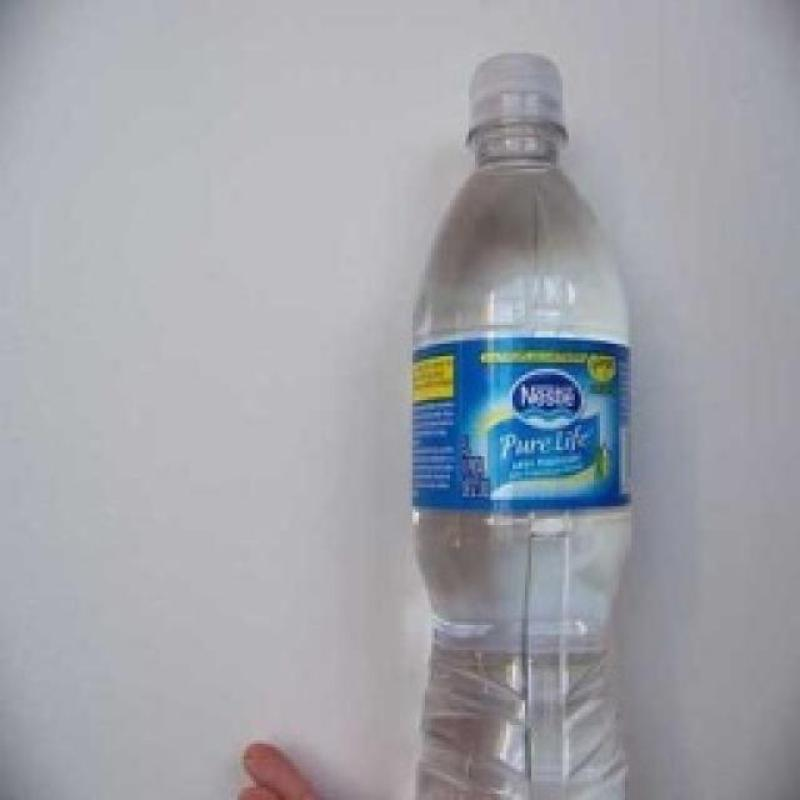botella: (404, 50, 644, 800)
